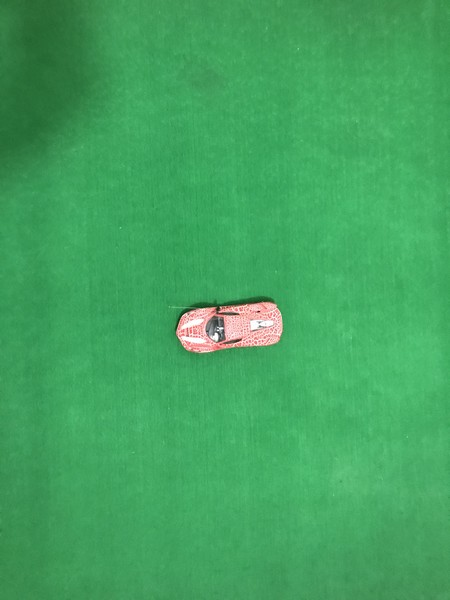RC: (175, 296, 285, 357)
